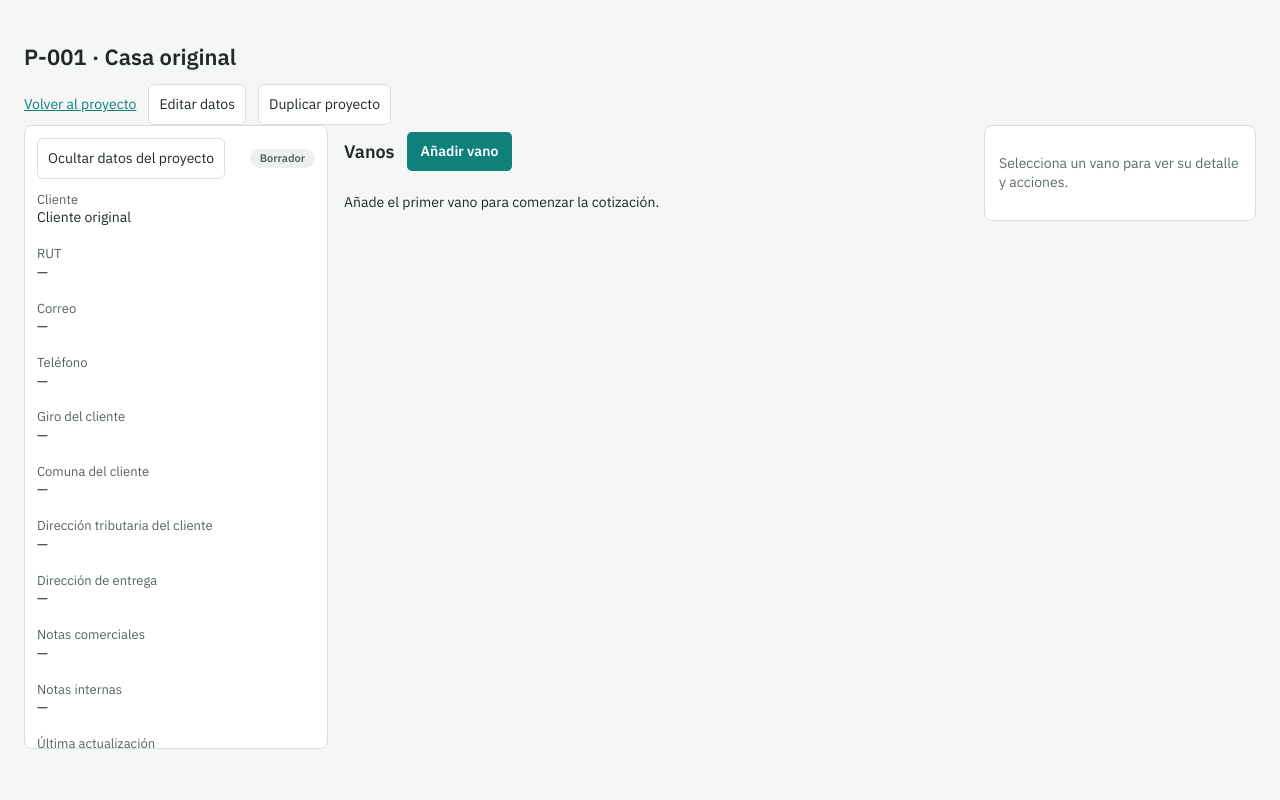
Test case: PATCHes the exact original timestamp and reloads persisted metadata
Click the button "Editar datos". click: (197, 104)
box: [148,84,246,125]
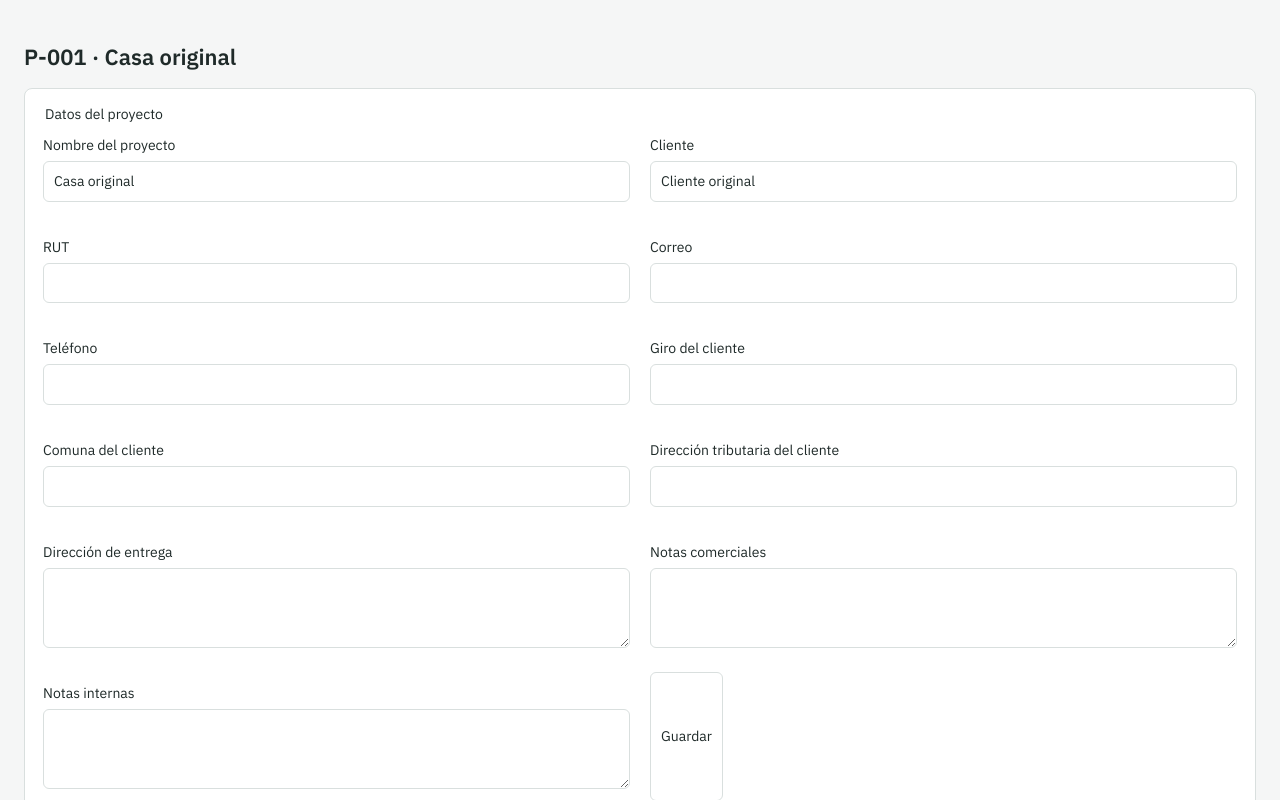
Replace the text in the field labelled "Nombre del proyecto" with "Casa actualizada". click: (336, 181)
box: [43,161,630,202]
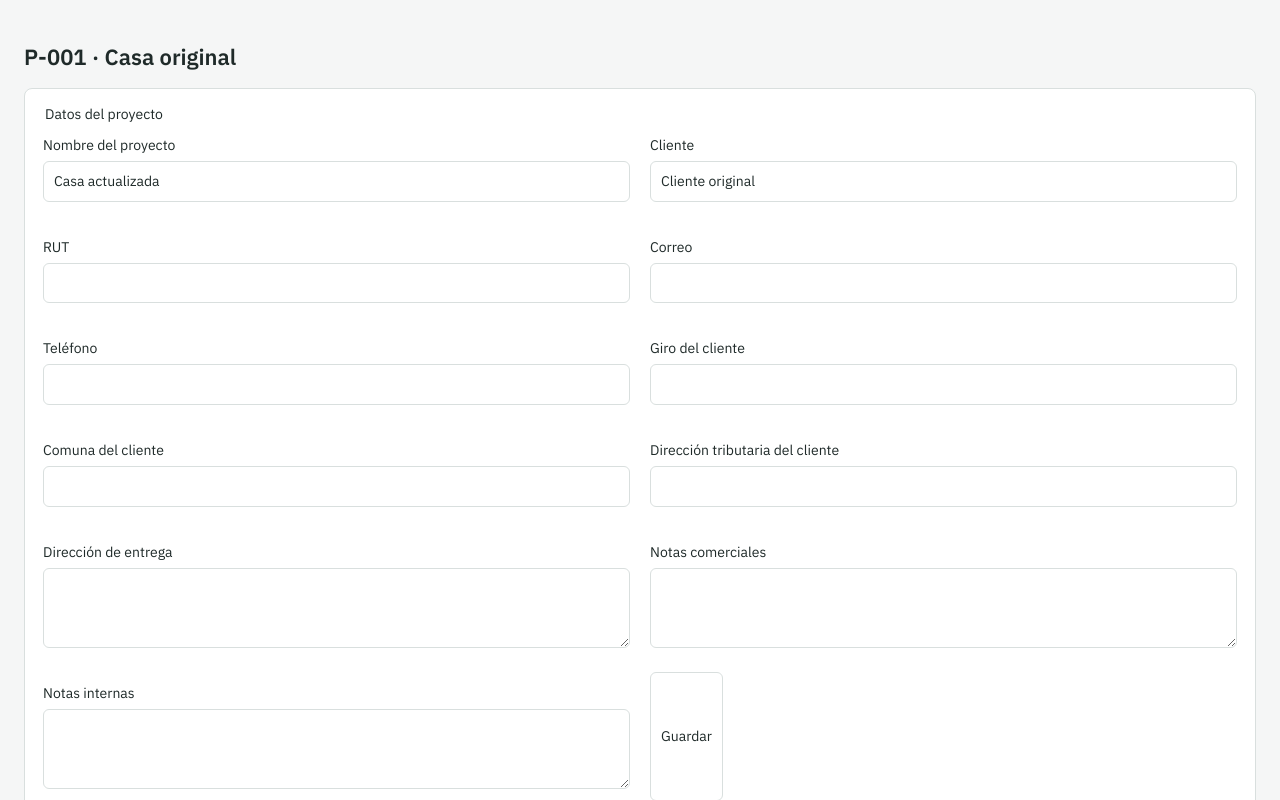
Type "+56 9 1234 5678" into the field labelled "Teléfono". click: (336, 385)
box: [43,364,630,405]
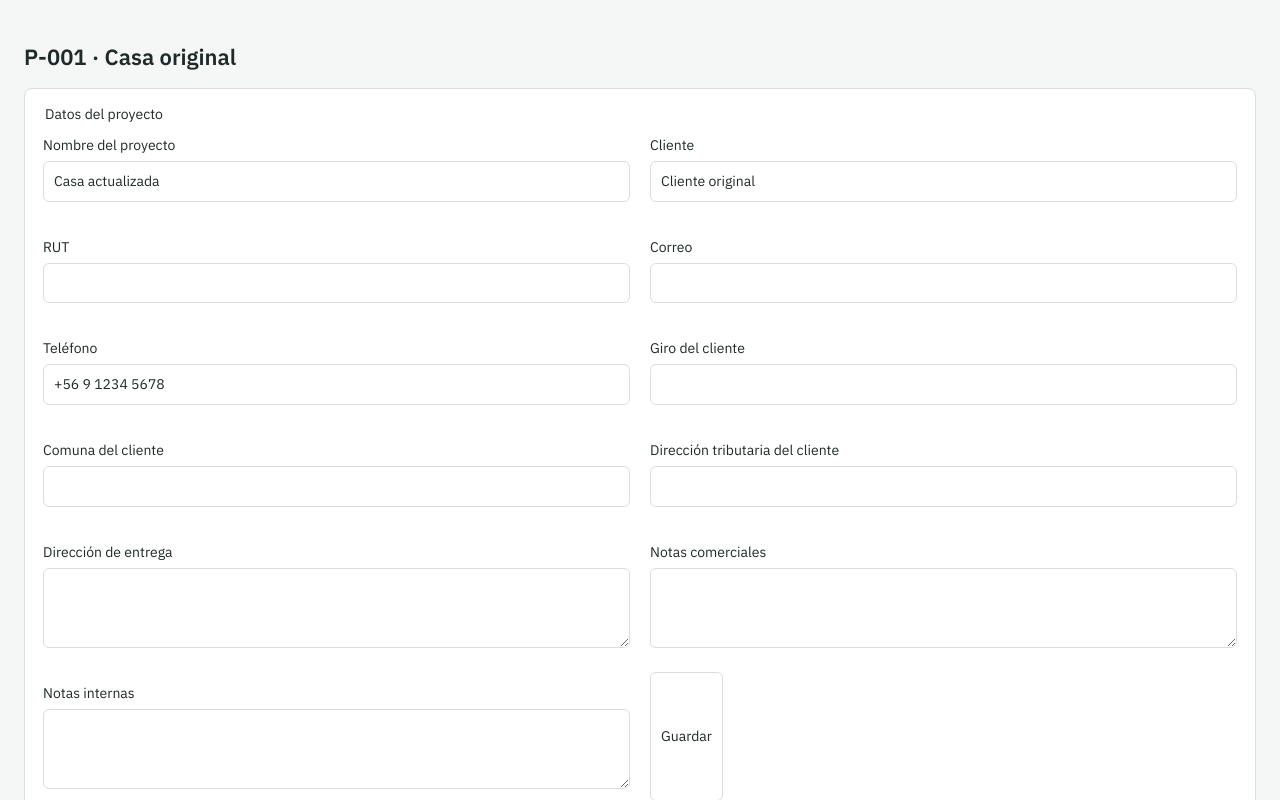
Click the button "Guardar". click: (686, 736)
box: [650,672,723,799]
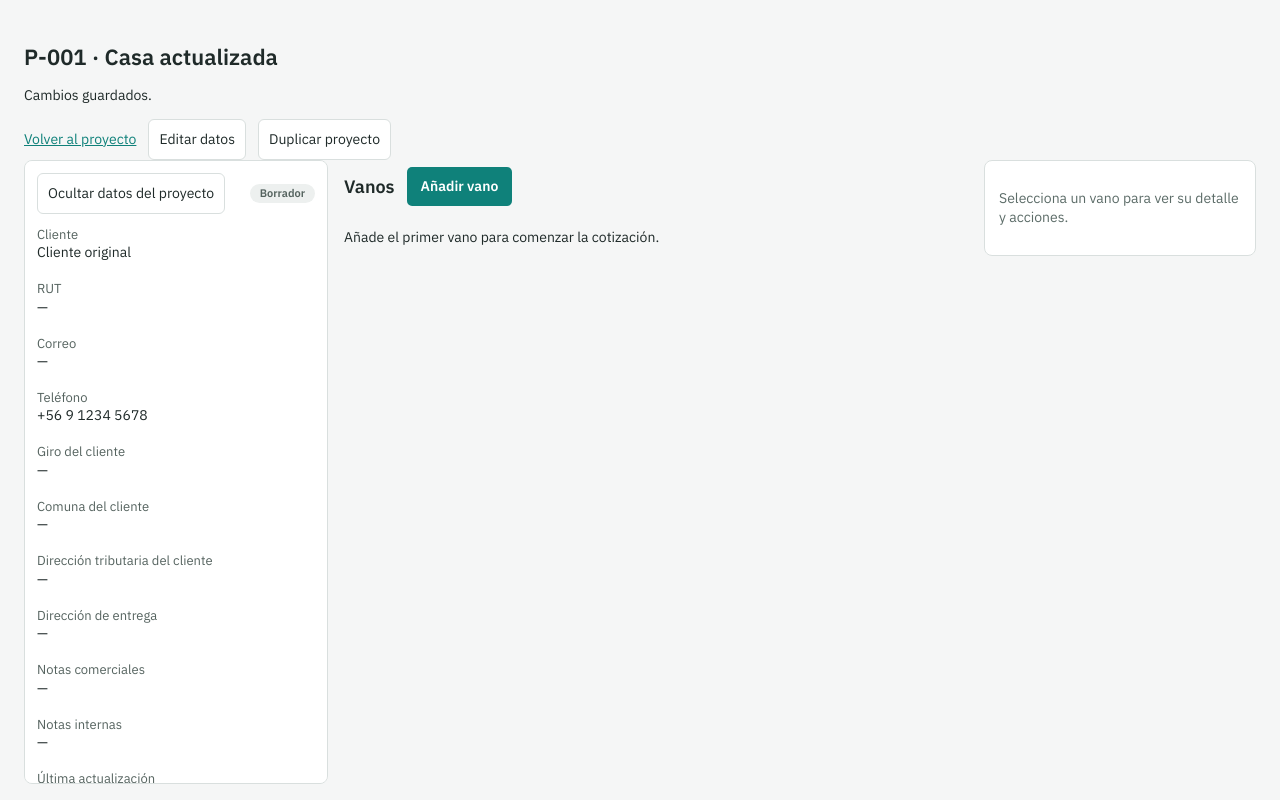
Result: the heading "P-001 · Casa actualizada" is shown at [24,42,278,71]
Result: the text "+56 9 1234 5678" is shown at [37,406,148,424]
Result: the message reads "Cambios guardados." at [24,86,152,104]
